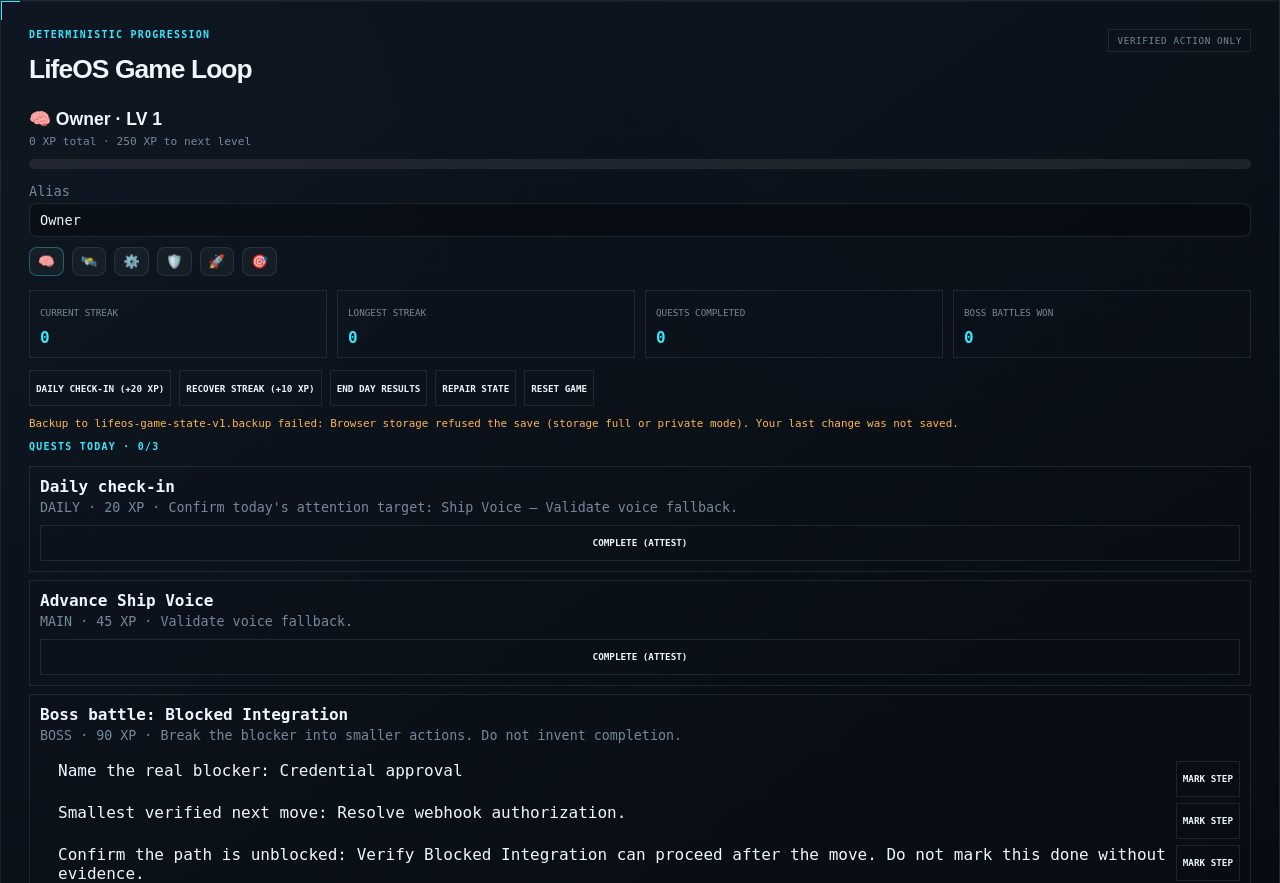
Scenario: GameLoopWidget feedback and safety › surfaces a storage diagnostic instead of throwing when saves fail
Click the button "Daily check-in (+20 XP)".
click(100, 388)  # box [29, 370, 171, 406]
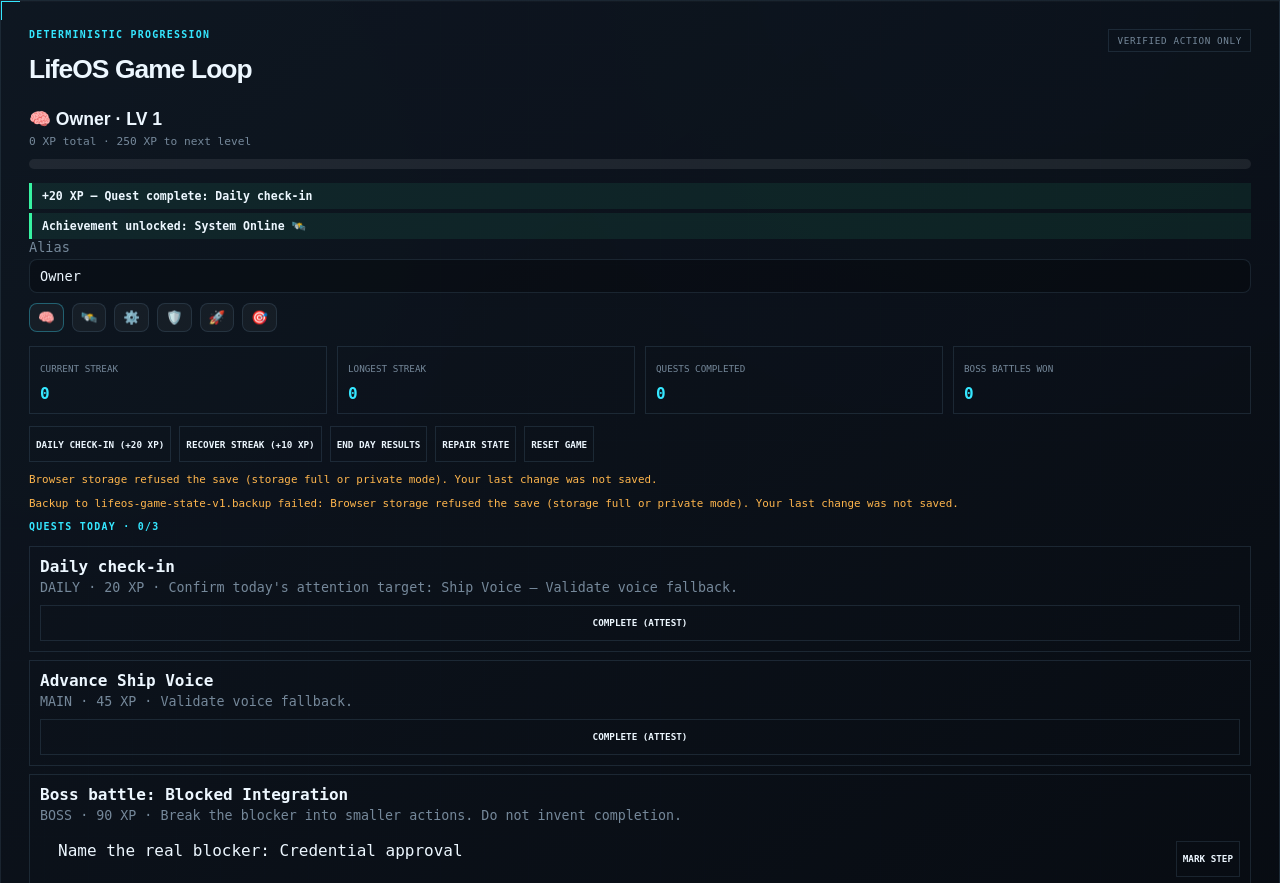
Expected: the text "Browser storage refused the save (storage full or private mode). Your last change was not saved." is shown, [29, 473, 658, 486]
